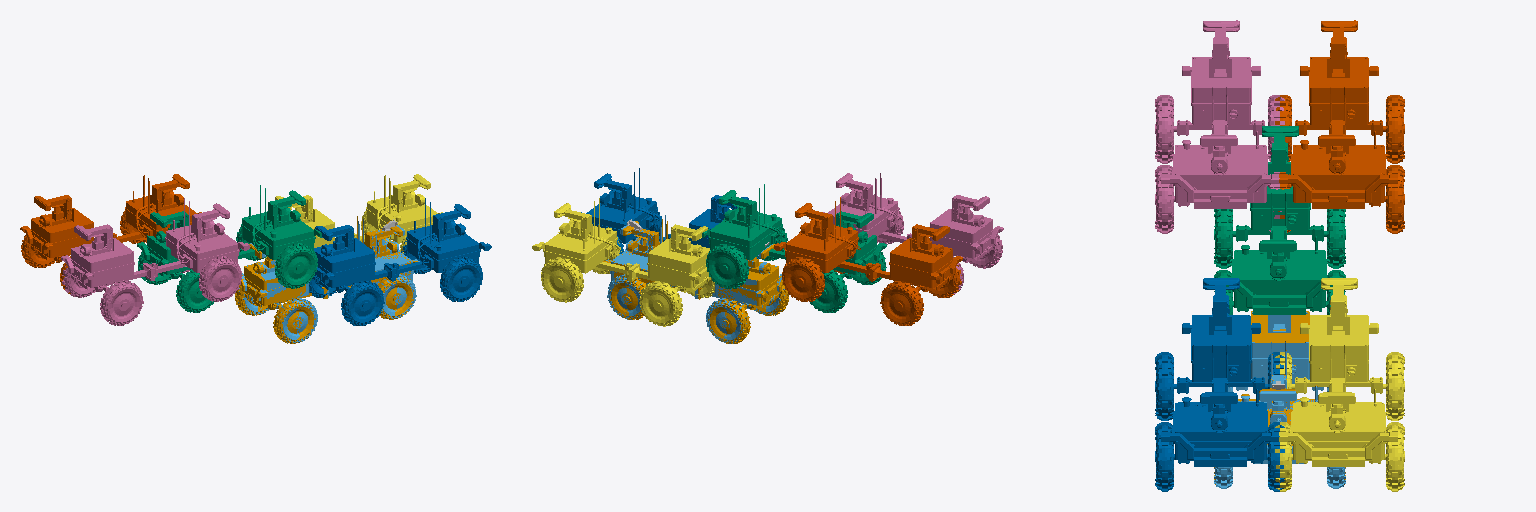
robot.urdf — ROBOTIKA_KLOUBAK:
<?xml version='1.0' encoding='utf-8'?>
<robot name='ROBOTIKA_KLOUBAK'>
  <link name='chassis_front'>
    <inertial>
      <origin xyz='-0.05 0 0.28' rpy='0 -0 0'/>
      <mass value='8'/>
      <inertia ixx='0.1119' ixy='0' ixz='0' iyy='0.1286' iyz='0' izz='0.2159'/>
    </inertial>
    <collision name='collision_front_box'>
      <origin xyz='0 0 0.28' rpy='0 -0 0'/>
      <geometry>
        <box size='0.3 0.4 0.16'/>
      </geometry>
    </collision>
    <collision name='collision_bar'>
      <origin xyz='-0.17 0 0.22' rpy='0 -0 0'/>
      <geometry>
        <box size='0.3 0.04 0.04'/>
      </geometry>
    </collision>
    <collision name='collision_joint_upper'>
      <origin xyz='-0.335 0 0.25' rpy='0 -0 0'/>
      <geometry>
        <box size='0.07 0.06 0.02'/>
      </geometry>
    </collision>
    <collision name='collision_joint_bottom'>
      <origin xyz='-0.335 0 0.19' rpy='0 -0 0'/>
      <geometry>
        <box size='0.07 0.06 0.02'/>
      </geometry>
    </collision>
    <collision name='collision_wheel_hinge_left'>
      <origin xyz='0 0.18 0.18' rpy='0 -0 0'/>
      <geometry>
        <box size='0.04 0.06 0.04'/>
      </geometry>
    </collision>
    <collision name='collision_wheel_hinge_right'>
      <origin xyz='0 -0.18 0.18' rpy='0 -0 0'/>
      <geometry>
        <box size='0.04 0.06 0.04'/>
      </geometry>
    </collision>
    <collision name='collision_light_lidar_camera'>
      <origin xyz='0.05 0 0.4325' rpy='0 -0 0'/>
      <geometry>
        <box size='0.2 0.15 0.145'/>
      </geometry>
    </collision>
    <collision name='collision_depth_camera_front'>
      <origin xyz='0.165 0 0.31' rpy='0 -0 0'/>
      <geometry>
        <box size='0.03 0.2 0.06'/>
      </geometry>
    </collision>
    <visual name='visual_chassis'>
      <origin xyz='-0.34 0 0.03' rpy='0 -0 0'/>
      <geometry>
        <mesh filename='meshes/k2.dae' scale='1 1 1'/>
      </geometry>
    </visual>
    <visual name='rs_holder_front'>
      <origin xyz='0.06 0.015 0.5185' rpy='0 -0 0'/>
      <geometry>
        <mesh filename='meshes/rs_holder.dae' scale='1 1 1'/>
      </geometry>
    </visual>
    <visual name='visual_depth_camera_front_slope'>
      <origin xyz='0.163 0.012 0.544' rpy='1.91986 0 1.56329'/>
      <geometry>
        <mesh filename='meshes/realsense_d435.dae' scale='1 1 1'/>
      </geometry>
    </visual>
  </link>
  <sensor name='imu_sensor_front' update_rate='50'>
    <parent link='chassis_front'/>
    <origin xyz='0 0 0' rpy='0 -0 0'/>
  </sensor>
  <sensor name='magnetometer_front' update_rate='50'>
    <parent link='chassis_front'/>
    <origin xyz='0 0 0' rpy='0 -0 0'/>
  </sensor>
  <sensor name='air_pressure' update_rate='20'>
    <parent link='chassis_front'/>
    <origin xyz='0 0 0' rpy='0 -0 0'/>
  </sensor>
  <sensor name='lidar_front' update_rate='15'>
    <parent link='chassis_front'/>
    <origin xyz='0.08 0 0.25' rpy='0 -0 0'/>
  </sensor>
  <sensor name='camera_front' update_rate='10'>
    <parent link='chassis_front'/>
    <origin xyz='0.155 -0.0075 0.193' rpy='0 -0 0'/>
    <camera>
      <image width='640' height='360' format='R8G8B8' hfov='2.27' near='0.01' far='300' />
    </camera>
  </sensor>
  <sensor name='depth_camera_front' update_rate='20'>
    <parent link='chassis_front'/>
    <origin xyz='0.18 0 0.113' rpy='0 -0 0'/>
    <camera>
      <image width='640' height='360' format='R8G8B8' hfov='1.5184' near='0.01' far='300' />
    </camera>
  </sensor>
  <sensor name='depth_camera_front_slope' update_rate='20'>
    <parent link='chassis_front'/>
    <origin xyz='0.17 0 0.344' rpy='0 0.4363323 0'/>
    <camera>
      <image width='640' height='360' format='R8G8B8' hfov='1.5184' near='0.01' far='300' />
    </camera>
  </sensor>
  <link name='chassis_back'>
    <inertial>
      <origin xyz='-0.325 0 0.096' rpy='0 -0 0'/>
      <mass value='7.2'/>
      <inertia ixx='0.0468' ixy='0' ixz='0' iyy='0.1117' iyz='0' izz='0.1228'/>
    </inertial>
    <collision name='collision_back_box'>
      <origin xyz='-0.35 0 0.11' rpy='0 -0 0'/>
      <geometry>
        <box size='0.34 0.24 0.18'/>
      </geometry>
    </collision>
    <collision name='collision_bar'>
      <origin xyz='-0.225 0 0' rpy='0 -0 0'/>
      <geometry>
        <box size='0.45 0.04 0.04'/>
      </geometry>
    </collision>
    <collision name='collision_light_lidar_camera'>
      <origin xyz='-0.42 0 0.2725' rpy='0 -0 0'/>
      <geometry>
        <box size='0.2 0.15 0.145'/>
      </geometry>
    </collision>
    <collision name='collision_depth_camera_back'>
      <origin xyz='-0.535 0 0.09' rpy='0 -0 0'/>
      <geometry>
        <box size='0.03 0.2 0.06'/>
      </geometry>
    </collision>
    <visual name='visual_chassis'>
      <origin xyz='-0.01 0 -0.19' rpy='0 -0 0'/>
      <geometry>
        <mesh filename='meshes/k2.dae' scale='1 1 1'/>
      </geometry>
    </visual>
    <visual name='rs_holder_back'>
      <origin xyz='-0.44 -0.023 0.375' rpy='0 -0 -3.14159'/>
      <geometry>
        <mesh filename='meshes/rs_holder.dae' scale='1 1 1'/>
      </geometry>
    </visual>
    <visual name='visual_depth_camera_back_slope'>
      <origin xyz='-0.543 0.015 0.401' rpy='-1.91986 -0 1.56329'/>
      <geometry>
        <mesh filename='meshes/realsense_d435.dae' scale='1 1 1'/>
      </geometry>
    </visual>
  </link>
  <sensor name='imu_sensor_back' update_rate='50'>
    <parent link='chassis_back'/>
    <origin xyz='0 0 0' rpy='0 -0 0'/>
  </sensor>
  <sensor name='magnetometer_back' update_rate='50'>
    <parent link='chassis_back'/>
    <origin xyz='0 0 0' rpy='0 -0 0'/>
  </sensor>
  <sensor name='lidar_back' update_rate='15'>
    <parent link='chassis_back'/>
    <origin xyz='-0.08 0 0.345' rpy='0 -0 -3.14159'/>
  </sensor>
  <sensor name='camera_back' update_rate='10'>
    <parent link='chassis_back'/>
    <origin xyz='-0.185 -0.001 0.269' rpy='0 -0 -3.14159'/>
    <camera>
      <image width='640' height='360' format='R8G8B8' hfov='2.27' near='0.01' far='300' />
    </camera>
  </sensor>
  <sensor name='depth_camera_back' update_rate='20'>
    <parent link='chassis_back'/>
    <origin xyz='-0.2 0 0.113' rpy='0 -0 -3.14159'/>
    <camera>
      <image width='640' height='360' format='R8G8B8' hfov='1.5184' near='0.01' far='300' />
    </camera>
  </sensor>
  <sensor name='depth_camera_back_slope' update_rate='20'>
    <parent link='chassis_back'/>
    <origin xyz='-0.2 0 0.421' rpy='0 0.4363323 -3.14159'/>
    <camera>
      <image width='640' height='360' format='R8G8B8' hfov='1.5184' near='0.01' far='300' />
    </camera>
  </sensor>
  <link name='axle_back'>
    <inertial>
      <origin xyz='0 0 0' rpy='0 -0 0'/>
      <mass value='0.8'/>
      <inertia ixx='0.0119' ixy='0' ixz='0' iyy='0.00021' iyz='0' izz='0.0119'/>
    </inertial>
    <collision name='collision'>
      <origin xyz='0 0 0' rpy='0 -0 0'/>
      <geometry>
        <box size='0.04 0.42 0.04'/>
      </geometry>
    </collision>
    <visual name='visual'>
      <origin xyz='-0.0132 0 0' rpy='0 -0 0'/>
      <geometry>
        <mesh filename='meshes/k2.dae' scale='1 1 1'/>
      </geometry>
    </visual>
  </link>
  <link name='front_left_wheel'>
    <inertial>
      <origin xyz='0 0 0' rpy='0 -0 0'/>
      <mass value='3.5'/>
      <inertia ixx='0.0145' ixy='0' ixz='0' iyy='0.0252' iyz='0' izz='0.0145'/>
    </inertial>
    <collision name='collision'>
      <origin xyz='0 0 0' rpy='-1.5708 0 0'/>
      <geometry>
        <cylinder radius='0.147' length='0.08'/>
      </geometry>
    </collision>
    <visual name='tire_visual'>
      <origin xyz='0 0 0' rpy='0 -0 0'/>
      <geometry>
        <mesh filename='meshes/k2.dae' scale='1 1 1'/>
      </geometry>
    </visual>
  </link>
  <link name='front_right_wheel'>
    <inertial>
      <origin xyz='0 0 0' rpy='0 -0 0'/>
      <mass value='3.5'/>
      <inertia ixx='0.0145' ixy='0' ixz='0' iyy='0.0252' iyz='0' izz='0.0145'/>
    </inertial>
    <collision name='collision'>
      <origin xyz='0 0 0' rpy='1.5708 -0 0'/>
      <geometry>
        <cylinder radius='0.147' length='0.08'/>
      </geometry>
    </collision>
    <visual name='tire_visual'>
      <origin xyz='0 0 0' rpy='0 -0 0'/>
      <geometry>
        <mesh filename='meshes/k2.dae' scale='1 1 1'/>
      </geometry>
    </visual>
  </link>
  <link name='rear_left_wheel'>
    <inertial>
      <origin xyz='0 0 0' rpy='0 -0 0'/>
      <mass value='3.5'/>
      <inertia ixx='0.0145' ixy='0' ixz='0' iyy='0.0252' iyz='0' izz='0.0145'/>
    </inertial>
    <collision name='collision'>
      <origin xyz='0 0 0' rpy='-1.5708 0 0'/>
      <geometry>
        <cylinder radius='0.147' length='0.08'/>
      </geometry>
    </collision>
    <visual name='tire_visual'>
      <origin xyz='0 0 0' rpy='0 -0 0'/>
      <geometry>
        <mesh filename='meshes/k2.dae' scale='1 1 1'/>
      </geometry>
    </visual>
  </link>
  <link name='rear_right_wheel'>
    <inertial>
      <origin xyz='0 0 0' rpy='0 -0 0'/>
      <mass value='3.5'/>
      <inertia ixx='0.0145' ixy='0' ixz='0' iyy='0.0252' iyz='0' izz='0.0145'/>
    </inertial>
    <collision name='collision'>
      <origin xyz='0 0 0' rpy='1.5708 -0 0'/>
      <geometry>
        <cylinder radius='0.147' length='0.08'/>
      </geometry>
    </collision>
    <visual name='tire_visual'>
      <origin xyz='0 0 0' rpy='0 -0 0'/>
      <geometry>
        <mesh filename='meshes/k2.dae' scale='1 1 1'/>
      </geometry>
    </visual>
  </link>
  <joint name='front_left_wheel_joint' type='revolute'>
    <origin xyz='0 0.25 0.172' rpy='0 -0 0'/>
    <parent link='chassis_front'/>
    <child link='front_left_wheel'/>
    <axis xyz='0 1 0'/>
    <limit lower='-1.79769e+308' upper='1.79769e+308' effort='10' velocity='13.333'/>
  </joint>
  <joint name='front_right_wheel_joint' type='revolute'>
    <origin xyz='0 -0.25 0.172' rpy='0 -0 0'/>
    <parent link='chassis_front'/>
    <child link='front_right_wheel'/>
    <axis xyz='0 1 0'/>
    <limit lower='-1.79769e+308' upper='1.79769e+308' effort='10' velocity='13.333'/>
  </joint>
  <joint name='rear_left_wheel_joint' type='revolute'>
    <origin xyz='-0.7 0.25 0.172' rpy='0 -0 0'/>
    <parent link='axle_back'/>
    <child link='rear_left_wheel'/>
    <axis xyz='0 1 0'/>
    <limit lower='-1.79769e+308' upper='1.79769e+308' effort='10' velocity='13.333'/>
  </joint>
  <joint name='rear_right_wheel_joint' type='revolute'>
    <origin xyz='-0.7 -0.25 0.172' rpy='0 -0 0'/>
    <parent link='axle_back'/>
    <child link='rear_right_wheel'/>
    <axis xyz='0 1 0'/>
    <limit lower='-1.79769e+308' upper='1.79769e+308' effort='10' velocity='13.333'/>
  </joint>
  <joint name='main_joint' type='revolute'>
    <origin xyz='-0.321 0 0.22' rpy='0 -0 0'/>
    <parent link='chassis_front'/>
    <child link='chassis_back'/>
    <axis xyz='0 0 1'/>
    <limit lower='-1.222' upper='1.222' effort='-1' velocity='-1'/>
  </joint>
  <joint name='axle_joint' type='revolute'>
    <origin xyz='-0.7 0 0.183' rpy='0 -0 0'/>
    <parent link='chassis_back'/>
    <child link='axle_back'/>
    <axis xyz='1 0 0'/>
    <limit lower='-0.436' upper='0.436' effort='-1' velocity='-1'/>
  </joint>
</robot>

--- Facts derived from the render (not from the file) ---
The picture shows the robot from 3 angles, left to right: view 1: azimuth 30°, elevation 25°; view 2: azimuth 150°, elevation 25°; view 3: azimuth 270°, elevation 25°; orthographic projection.
Robot: ROBOTIKA_KLOUBAK — 7 links, 6 joints (6 revolute); root link chassis_front; default pose: all joints at 0.
Links seen in each view (by area): view 1: rear_right_wheel, front_right_wheel, axle_back, rear_left_wheel, chassis_front, front_left_wheel, chassis_back; view 2: rear_left_wheel, front_left_wheel, axle_back, rear_right_wheel, chassis_front, front_right_wheel, chassis_back; view 3: front_left_wheel, front_right_wheel, rear_right_wheel, rear_left_wheel, axle_back, chassis_back, chassis_front.
Link boxes in pixels (x1,y1,x2,y2): rear_right_wheel: (61, 198, 249, 325); front_right_wheel: (309, 198, 491, 325); axle_back: (137, 185, 321, 312); rear_left_wheel: (20, 174, 201, 293); chassis_front: (235, 216, 417, 343); front_left_wheel: (265, 174, 442, 258); chassis_back: (238, 219, 419, 342); rear_left_wheel: (774, 197, 962, 325); front_left_wheel: (532, 198, 714, 326); axle_back: (702, 184, 886, 312); rear_right_wheel: (823, 173, 1003, 294); chassis_front: (603, 219, 788, 343); front_right_wheel: (581, 168, 758, 258); chassis_back: (606, 215, 784, 343); front_left_wheel: (1275, 278, 1404, 491); front_right_wheel: (1155, 278, 1284, 491); rear_right_wheel: (1155, 20, 1284, 233); rear_left_wheel: (1275, 20, 1404, 233); axle_back: (1214, 126, 1345, 314); chassis_back: (1214, 312, 1345, 488); chassis_front: (1214, 311, 1345, 484).
Bounding box of the posed robot: 2.83 × 1.06 × 1.17 m (x, y, z).
9 mesh visuals loaded from 3 distinct referenced files (2 Collada DAE); not drawn: 2 (reference not matched to a file when rendering).